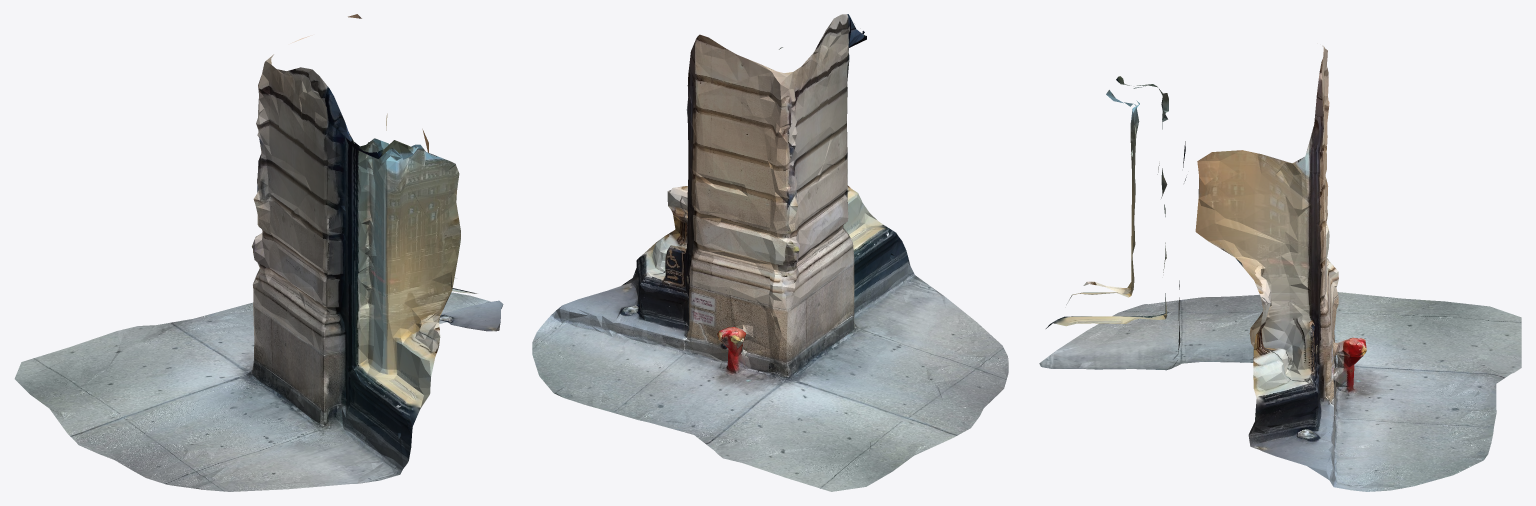
The picture shows the model from 3 angles, left to right: view 1: azimuth 30°, elevation 25°; view 2: azimuth 150°, elevation 25°; view 3: azimuth 270°, elevation 25°; orthographic projection. The views are drawn at different scales.
Bounding box in the file's own units: 5.23 × 4.17 × 4.86.
Materials: 1 (1 with a texture image).
